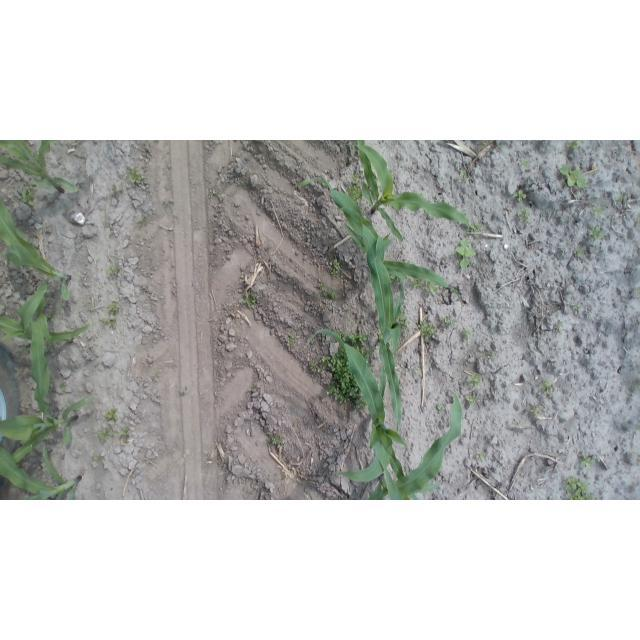Maize: (305, 185, 463, 335), (319, 333, 417, 487), (3, 315, 89, 467), (350, 397, 465, 500), (352, 142, 472, 240), (1, 198, 76, 350), (361, 237, 409, 435), (1, 440, 84, 500), (1, 141, 84, 196), (0, 311, 96, 349)
Weeds: (323, 352, 362, 404), (564, 475, 596, 500), (559, 164, 587, 188), (456, 238, 476, 271), (344, 333, 373, 351), (348, 174, 364, 204), (125, 167, 144, 186), (241, 291, 260, 309), (417, 321, 435, 339), (578, 453, 597, 470), (318, 285, 338, 300), (465, 373, 482, 388), (589, 225, 605, 240), (517, 205, 531, 222), (22, 188, 35, 206), (566, 140, 585, 152), (513, 189, 527, 204), (529, 403, 543, 418), (101, 315, 118, 327), (331, 258, 341, 278), (399, 312, 410, 330), (105, 408, 119, 422), (98, 428, 111, 443), (425, 281, 440, 294), (268, 434, 284, 446), (287, 333, 300, 347), (106, 265, 121, 277), (310, 362, 323, 375), (520, 159, 533, 172), (469, 221, 483, 233), (614, 192, 626, 205), (459, 169, 470, 183), (543, 381, 554, 395), (462, 328, 474, 340), (45, 311, 58, 322), (109, 300, 120, 312), (109, 184, 121, 195), (137, 217, 149, 228), (119, 427, 131, 438), (594, 204, 605, 216), (556, 319, 565, 333), (574, 248, 585, 259), (443, 316, 455, 326), (465, 394, 475, 405), (211, 190, 223, 199), (411, 279, 421, 289), (475, 451, 485, 461), (389, 274, 399, 284), (573, 302, 582, 313), (480, 141, 496, 147), (450, 287, 460, 296), (414, 363, 422, 374), (307, 335, 315, 346), (59, 381, 67, 391), (92, 455, 105, 461), (437, 404, 445, 413), (162, 200, 171, 208), (294, 420, 302, 428), (248, 384, 256, 392), (489, 352, 496, 361), (633, 381, 638, 391)
